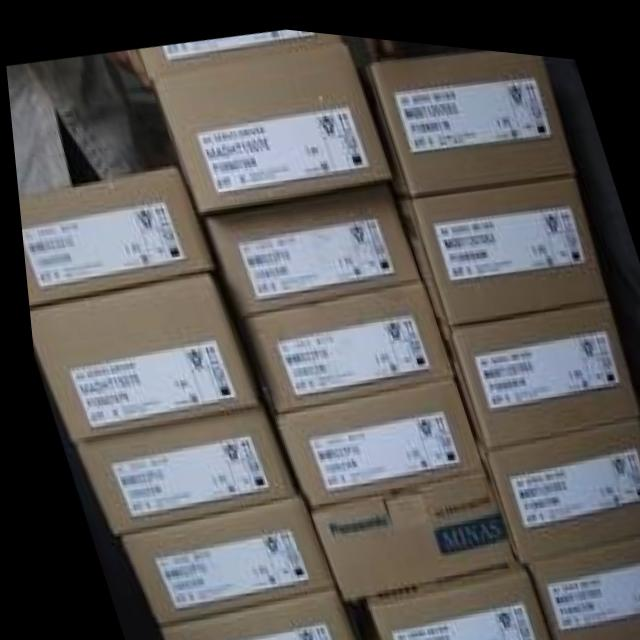box: (149, 32, 389, 208), (23, 265, 251, 441), (388, 159, 603, 318), (355, 39, 572, 187), (429, 285, 635, 440), (66, 400, 290, 538), (200, 173, 416, 314), (108, 491, 326, 626), (15, 161, 211, 307), (236, 271, 447, 406), (267, 367, 477, 502), (298, 460, 507, 595), (465, 404, 640, 555), (353, 551, 543, 640), (516, 521, 640, 640), (146, 586, 354, 640), (138, 23, 342, 73)
